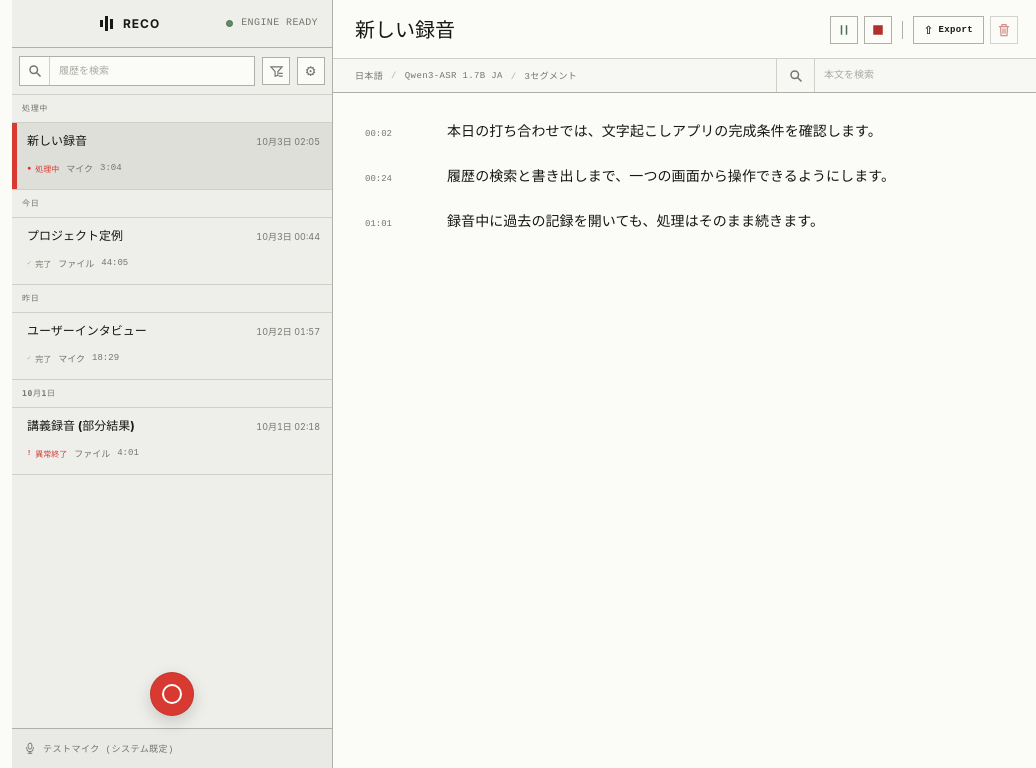
Test: RecoGUI › keeps the selected history session when a live segment arrives
Check: the heading "新しい録音" is shown, box x1=355 y1=18 x2=455 y2=42
Click the option "プロジェクト定例": (75, 236) x1=12 y1=218 x2=332 y2=285
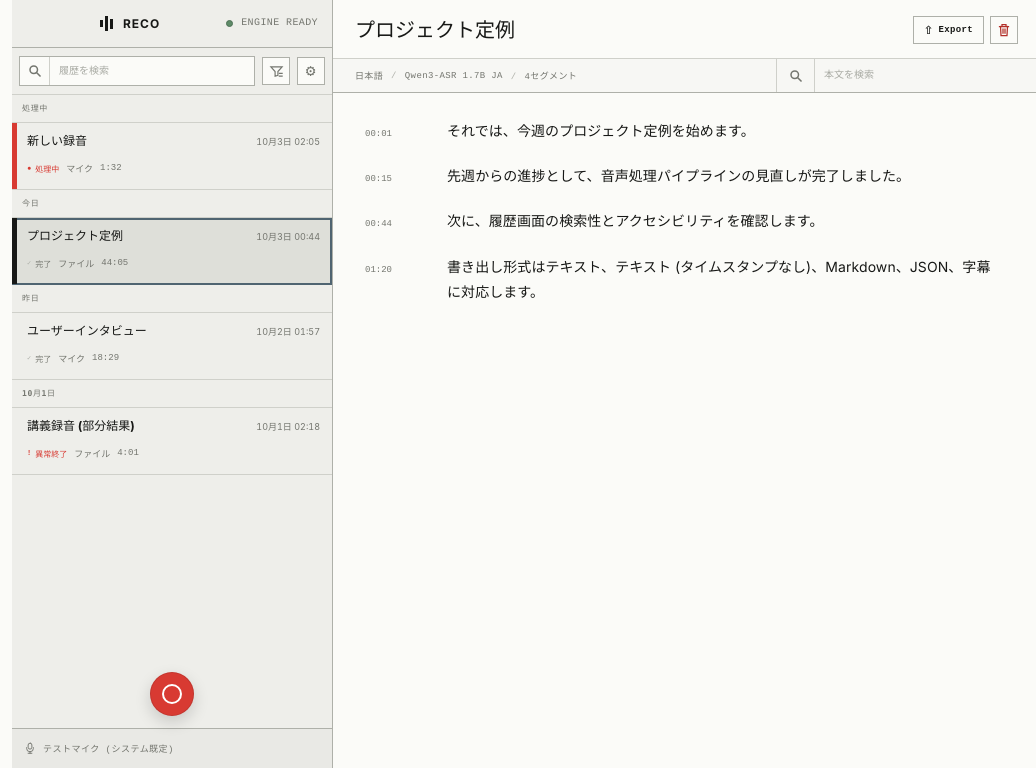
Check: the heading "プロジェクト定例" is shown, box x1=355 y1=18 x2=515 y2=42
